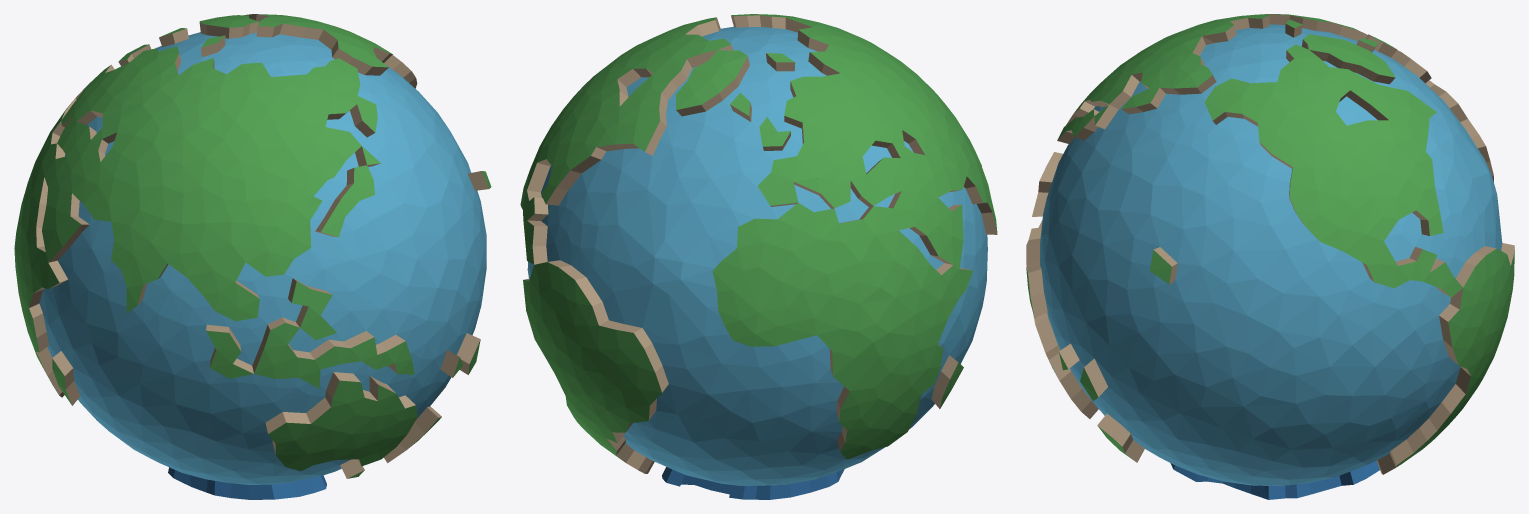
The model's file is earth_3d.glb.
3 views of the same model, side by side, from view 1: azimuth 30°, elevation 25°; view 2: azimuth 150°, elevation 25°; view 3: azimuth 270°, elevation 25° (orthographic).
Visible parts, largest first — view 1: Sphere_Sphere.002; view 2: Sphere_Sphere.002; view 3: Sphere_Sphere.002.
Part boxes in pixels (left/top/right/bottom): Sphere_Sphere.002: left=14, top=14, right=491, bottom=499; Sphere_Sphere.002: left=520, top=14, right=997, bottom=499; Sphere_Sphere.002: left=1026, top=14, right=1514, bottom=499.
Bounding box in the file's own units: 2.04 × 2.11 × 2.11.
